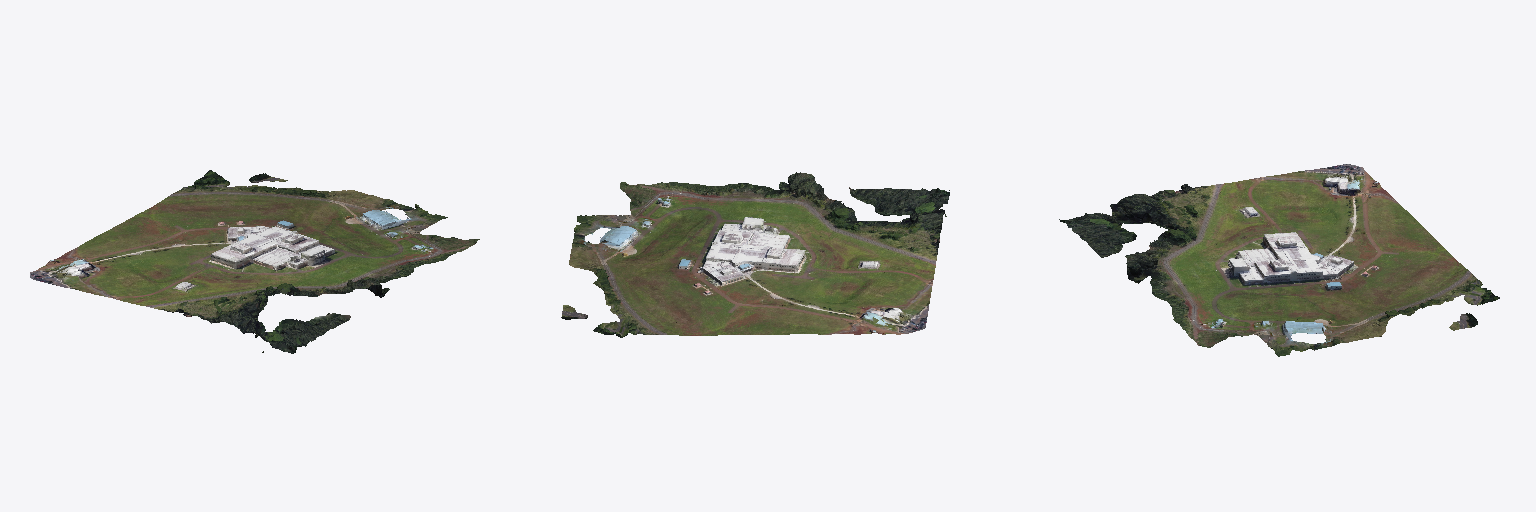
The picture shows the model from 3 angles: view 1: azimuth 30°, elevation 25°; view 2: azimuth 150°, elevation 25°; view 3: azimuth 270°, elevation 25°; orthographic projection.
Parts seen in each view (by area): view 1: nsahw:Mesh; view 2: nsahw:Mesh; view 3: nsahw:Mesh.
Boxes of the visible parts, x1,y1,x2,y2 form: nsahw:Mesh: [30, 170, 479, 353]; nsahw:Mesh: [561, 172, 949, 337]; nsahw:Mesh: [1059, 164, 1499, 356].
Size of the model in its own units: 103 by 9.16 by 103.
1 materials, 1 textured.